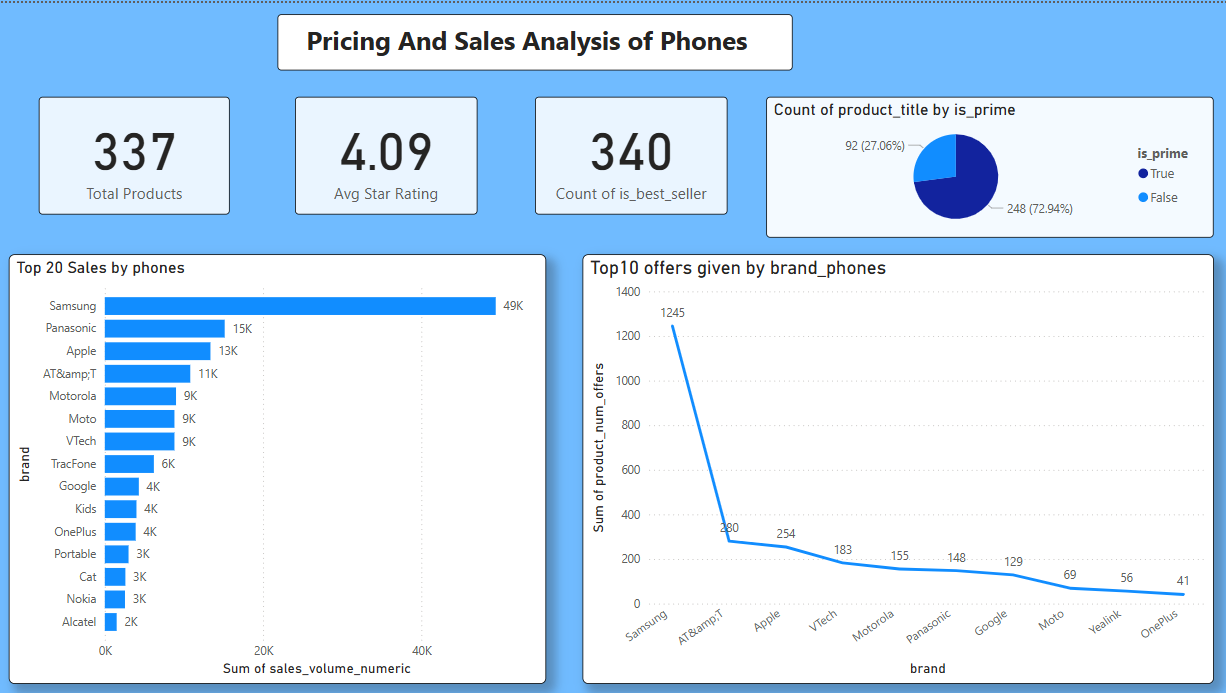

The page's visual inventory and layout, read from the dashboard file:
{"tool":"powerbi","page":{"name":"Page 1","canvas":[1280,720],"ordinal":0},"visuals":[{"type":"card","fields":{"Values":["Table.Total Products"]},"box":[40.3,97.4,198.7,122.1],"z":0},{"type":"card","fields":{"Values":["Table.Avg Star Rating"]},"box":[306.5,97.4,189.6,122.1],"z":1000},{"type":"card","fields":{"Values":["CountNonNull(phone search.is_best_seller)"]},"box":[555.8,97.4,200,122.1],"z":2000},{"type":"barChart","title":"Top 20 Sales by phones","fields":{"Category":["phone search.brand"],"Y":["Sum(phone search.sales_volume_numeric)"]},"box":[9.1,261,558.4,446.8],"z":3000},{"type":"pieChart","fields":{"Y":["CountNonNull(phone search.product_title)"],"Category":["phone search.is_prime"]},"box":[796.1,97.4,464.9,146.8],"z":4000},{"type":"lineChart","title":"Top10 offers given by brand_phones ","fields":{"Category":["phone search.brand"],"Y":["Sum(phone search.product_num_offers)"]},"box":[605.2,261,655.8,446.8],"z":5000},{"type":"textbox","box":[288.3,11.7,535.1,58.4],"z":6000}]}

Visuals, with their boxes in screenshot pixels (x1, y1, x2, y2), scaled from the page's 1280x720 canvas onto the 1226x693 screenshot:
card - Table.Total Products: detection(39, 94, 229, 211)
card - Table.Avg Star Rating: detection(294, 94, 475, 211)
card - CountNonNull(phone search.is_best_seller): detection(532, 94, 724, 211)
"Top 20 Sales by phones" barChart: detection(9, 251, 544, 681)
pieChart - CountNonNull(phone search.product_title) x phone search.is_prime: detection(763, 94, 1208, 235)
"Top10 offers given by brand_phones " lineChart: detection(580, 251, 1208, 681)
textbox: detection(276, 11, 789, 67)
